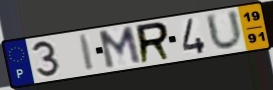3: (31, 38, 62, 81)
4: (182, 17, 208, 55)
I: (77, 32, 97, 73)
M: (96, 24, 144, 71)
R: (135, 20, 173, 66)
U: (203, 8, 246, 52)
